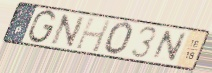3: (129, 25, 158, 60)
G: (26, 9, 58, 45)
H: (73, 15, 113, 54)
N: (49, 13, 88, 49), (150, 29, 190, 64)
O: (102, 21, 135, 56)
